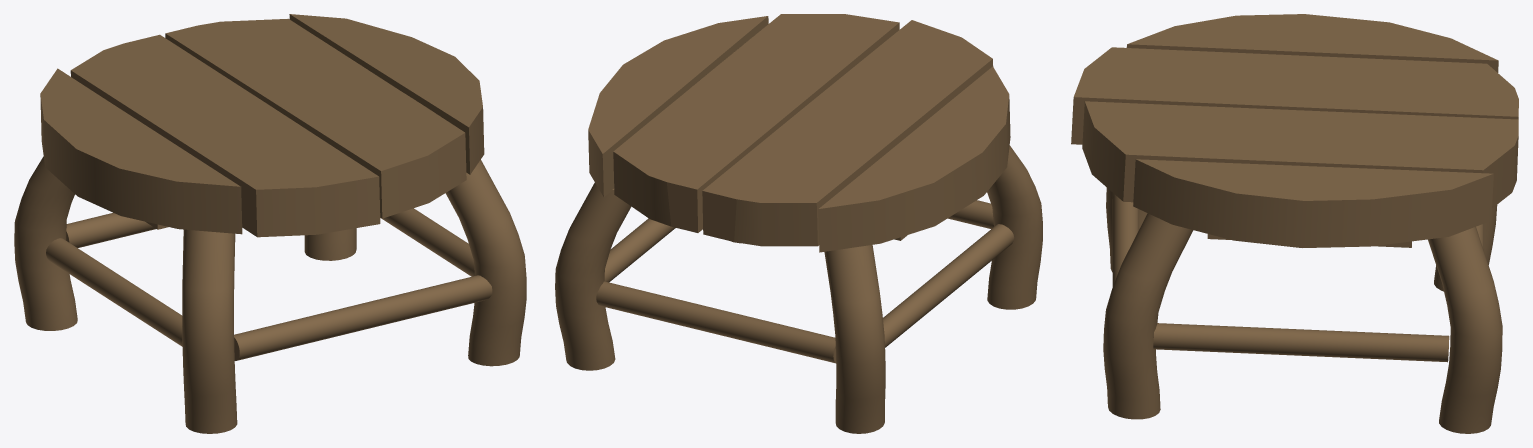
File: tabouret.fbx
3 views of the same model, side by side, from view 1: azimuth 30°, elevation 25°; view 2: azimuth 150°, elevation 25°; view 3: azimuth 270°, elevation 25° (orthographic). The views are drawn at different scales.
Parts seen in each view (by area): view 1: tabouret:pCube3; view 2: tabouret:pCube3; view 3: tabouret:pCube3.
Boxes of the visible parts, x1,y1,x2,y2 form: tabouret:pCube3: (14, 14, 526, 433); tabouret:pCube3: (555, 14, 1042, 433); tabouret:pCube3: (1071, 14, 1518, 433).
Bounding box in the file's own units: 0.1429 × 0.091 × 0.1446.
